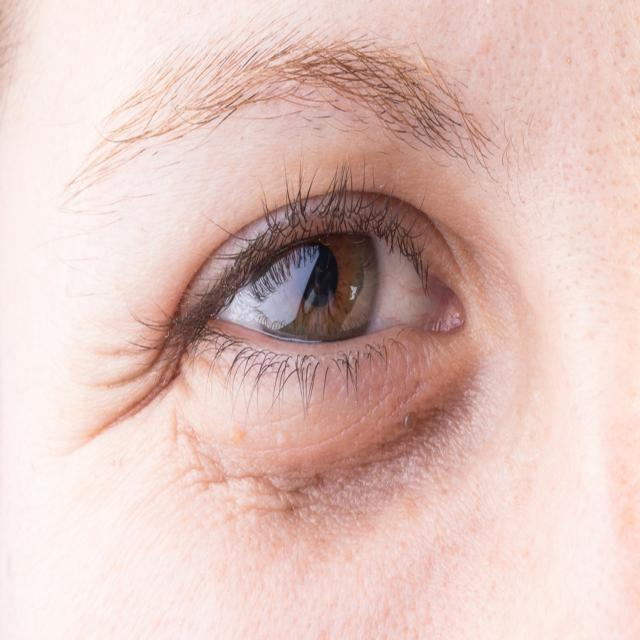Normal: (137, 155, 499, 414)
